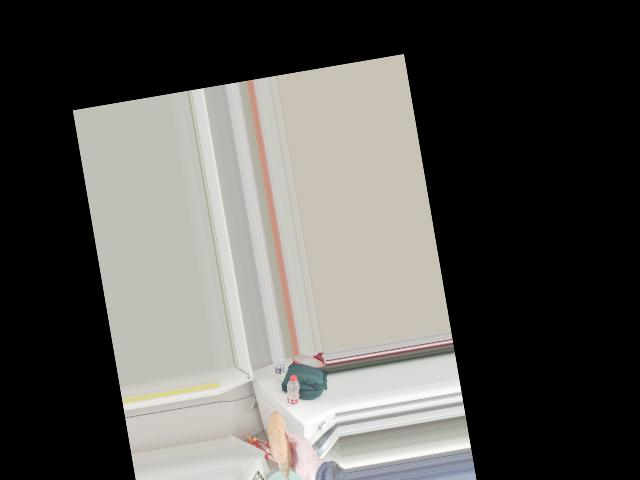sweet_potato: (268, 417, 297, 468)
